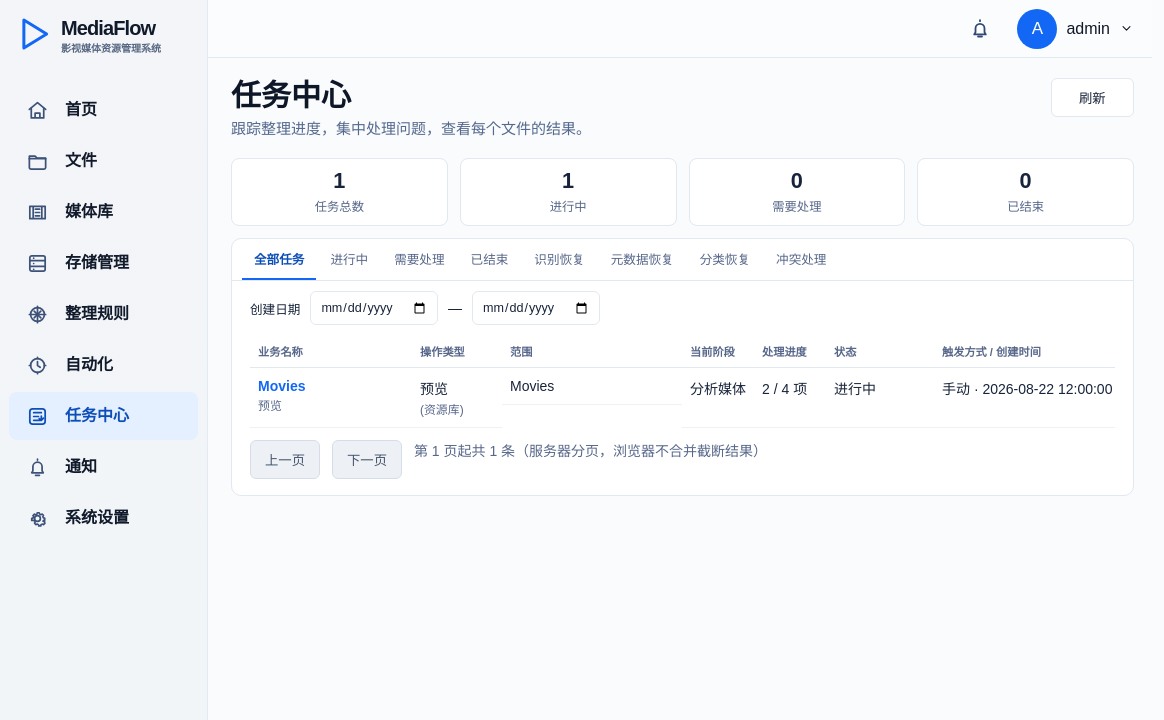
Test: Operations run inventory landing › never lets an older time-range response overwrite the newest result
Expected: the heading "任务中心" is shown, [231, 79, 351, 112]
Expected: the table is shown, [250, 335, 1115, 428]
In the 1st date field named "开始日期": (374, 308) [310, 291, 438, 325], type "2026-08-01"
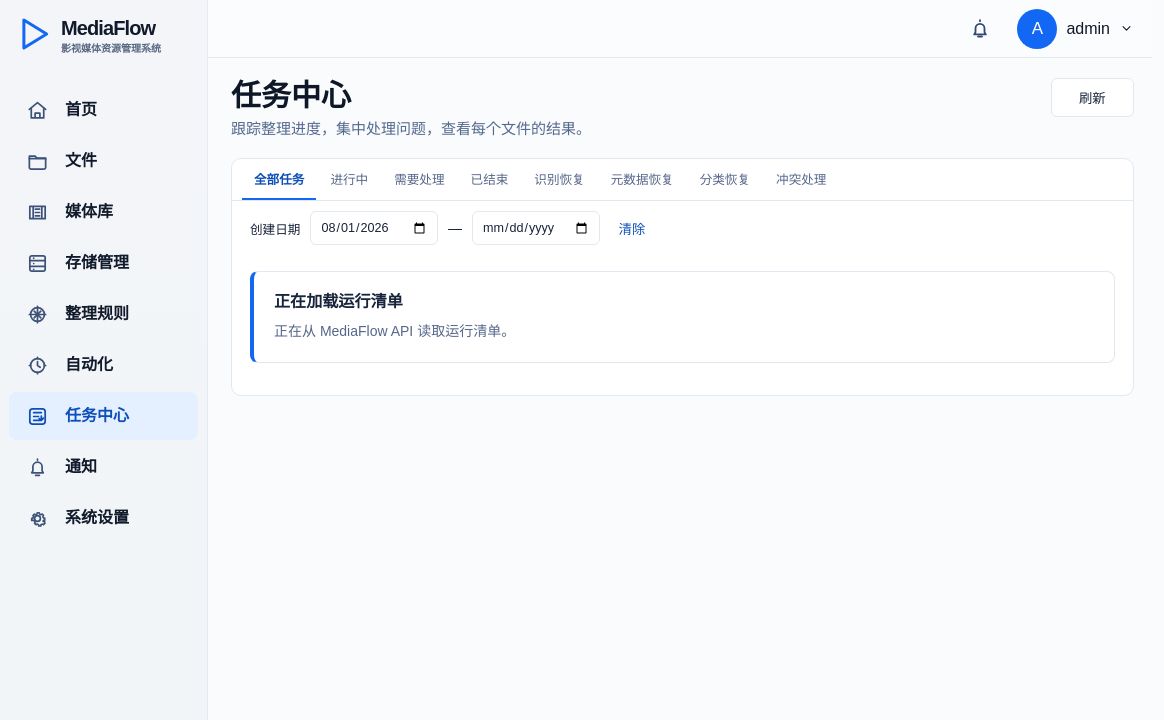
In the 1st date field named "开始日期": (374, 228) [310, 211, 438, 245], type "2026-08-02"
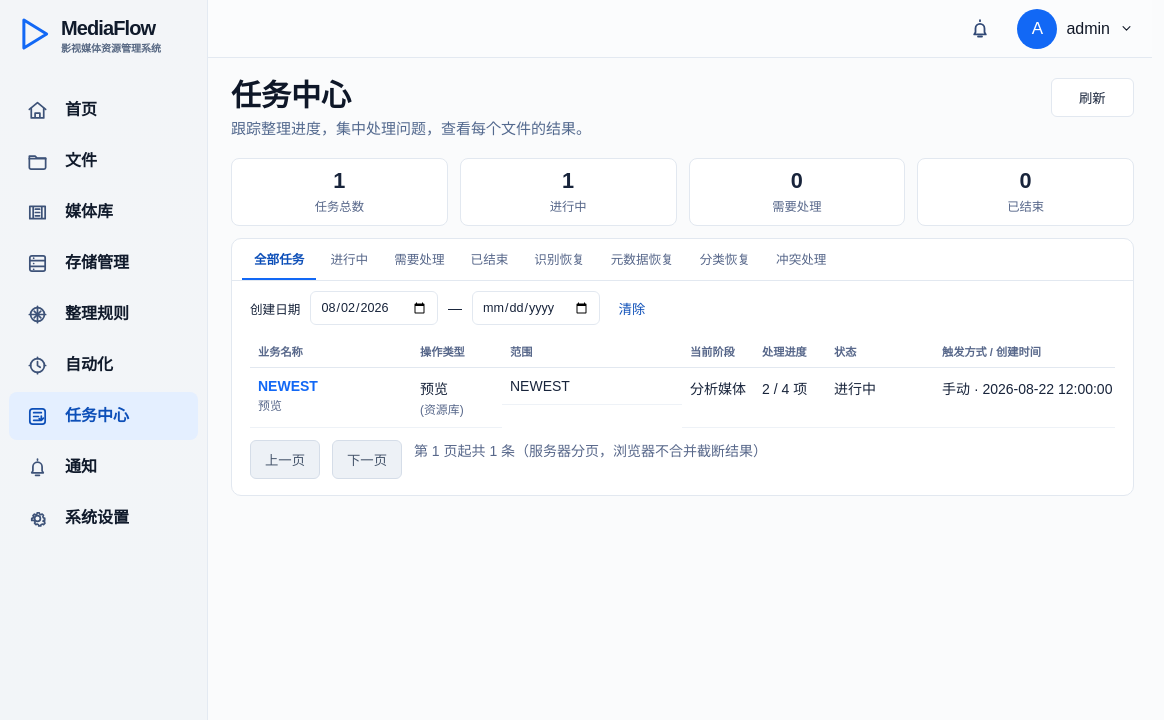
Expected: the button "NEWEST" is shown, [258, 378, 318, 394]
